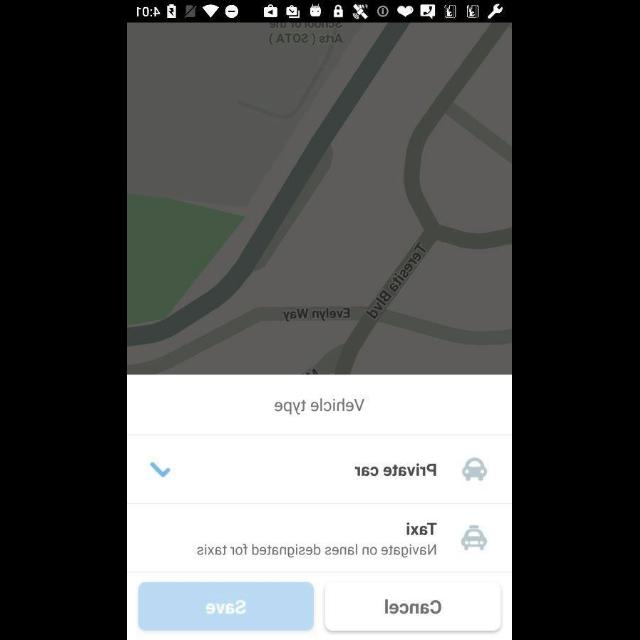icon: (150, 462, 172, 478)
image: (460, 526, 488, 550), (462, 457, 488, 481)
panel: (128, 374, 512, 640)
text: (198, 544, 438, 558), (274, 397, 366, 415), (355, 462, 437, 476), (406, 522, 438, 536)
textbutton: (139, 582, 315, 632), (325, 582, 501, 632)
uppertaskbar: (128, 1, 512, 23)
